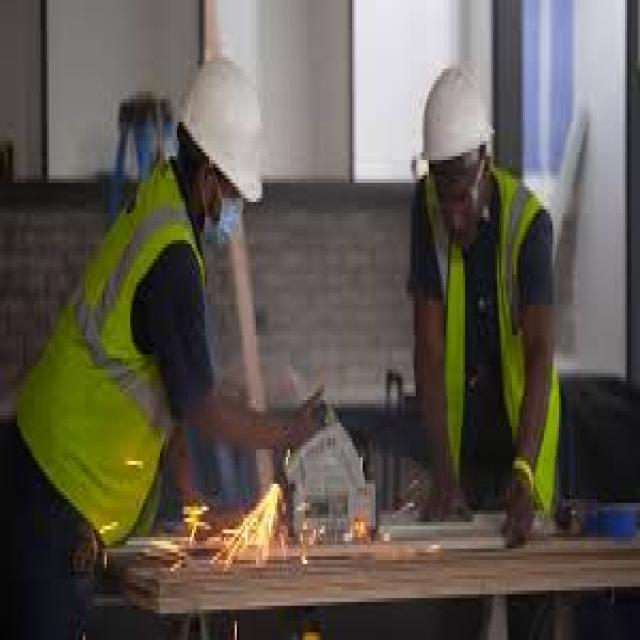Reflective-Jacket: (2, 168, 213, 480), (412, 171, 570, 541)
Safety-Helmet: (167, 46, 276, 217), (408, 49, 506, 183)
